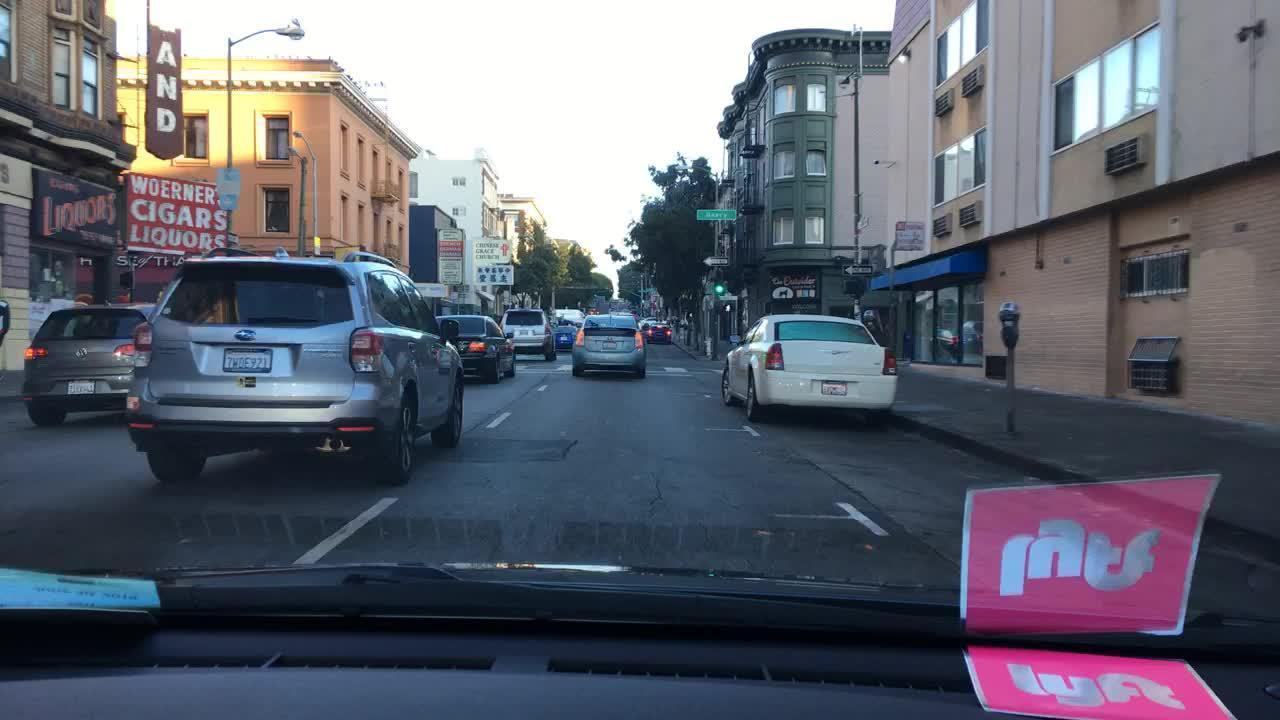Chrysler: (816, 346, 860, 359)
Volkswagen: (74, 343, 91, 362)
subaru: (231, 325, 264, 347)
